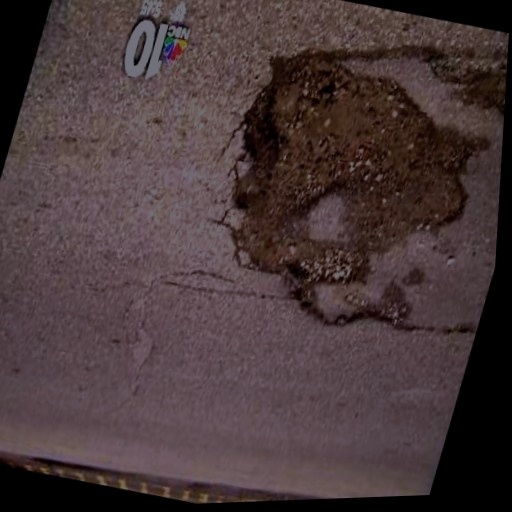pothole: (191, 39, 508, 355)
